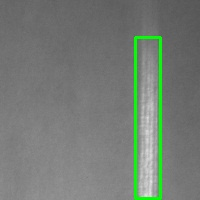scratches: (135, 37, 160, 198)
